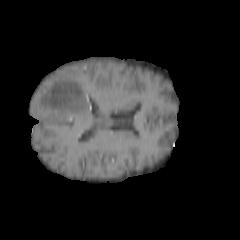glioma: (35, 78, 95, 126)
